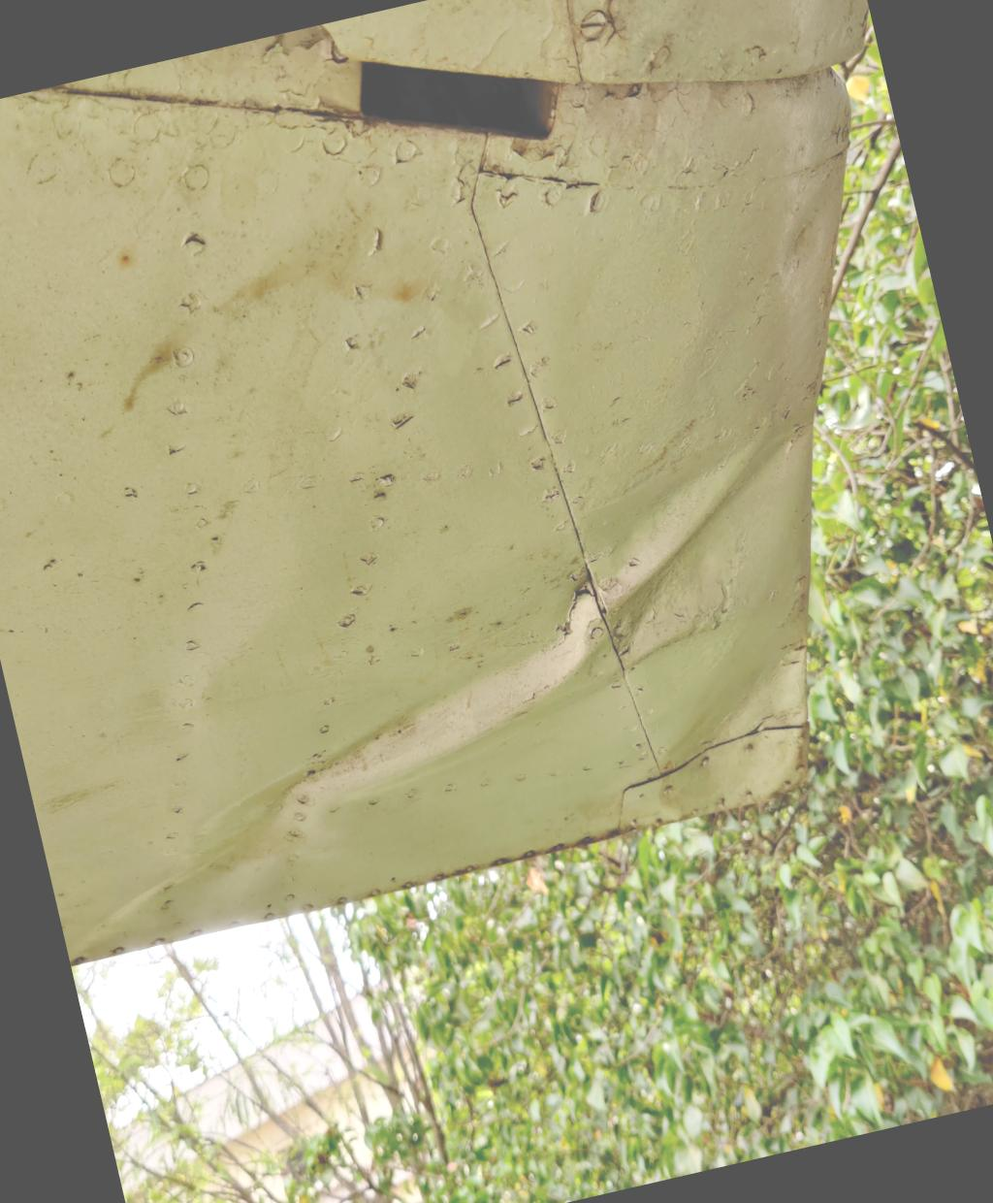crack: (530, 569, 616, 664)
dent: (98, 370, 912, 960), (605, 626, 860, 880)
